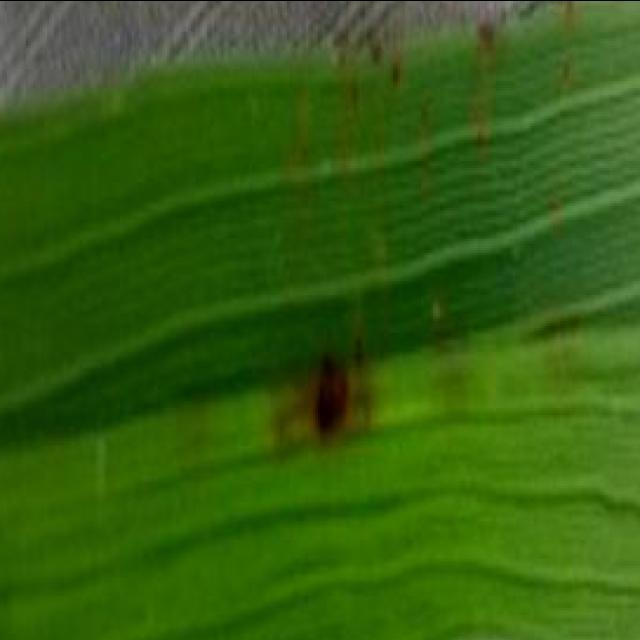Brown_Spot: (304, 338, 368, 442), (468, 9, 512, 56), (348, 327, 376, 369), (292, 132, 320, 172), (386, 56, 412, 92), (346, 78, 370, 110), (555, 56, 579, 84), (369, 127, 393, 155), (473, 120, 494, 150), (558, 0, 584, 19), (419, 101, 435, 127)
